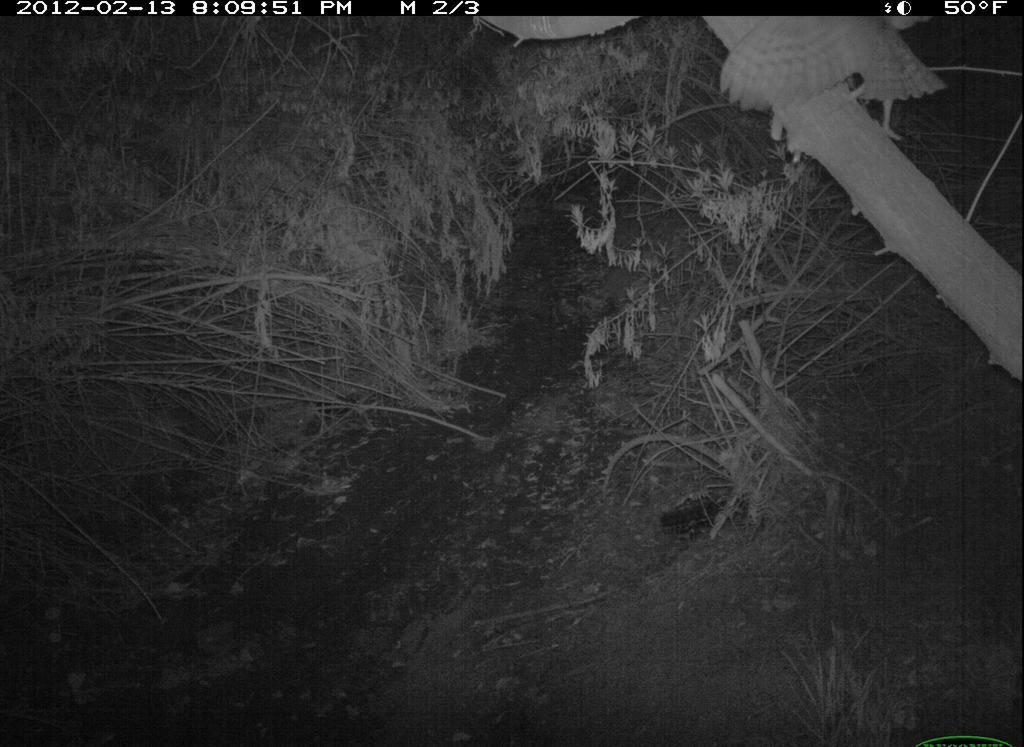bird: (710, 12, 950, 155)
